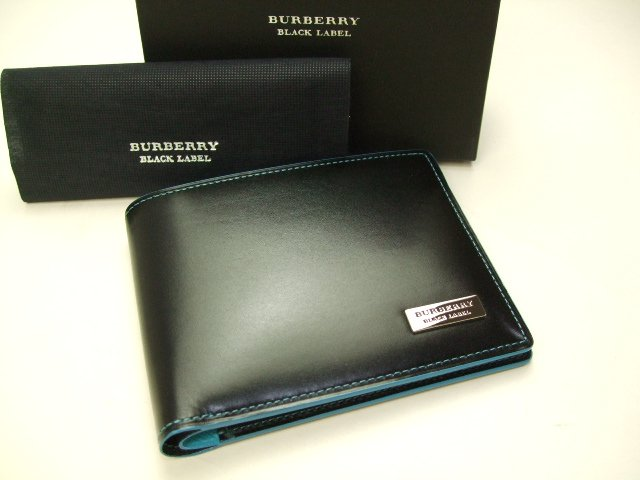monedero: (121, 147, 540, 459)
